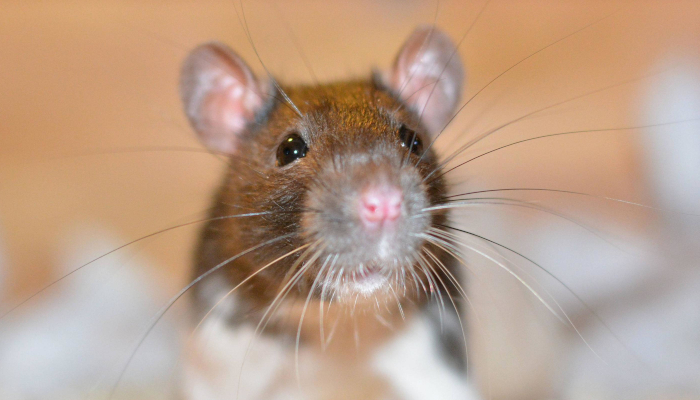rat: (173, 13, 477, 361)
